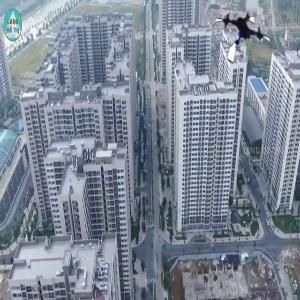drone: (210, 6, 276, 72)
